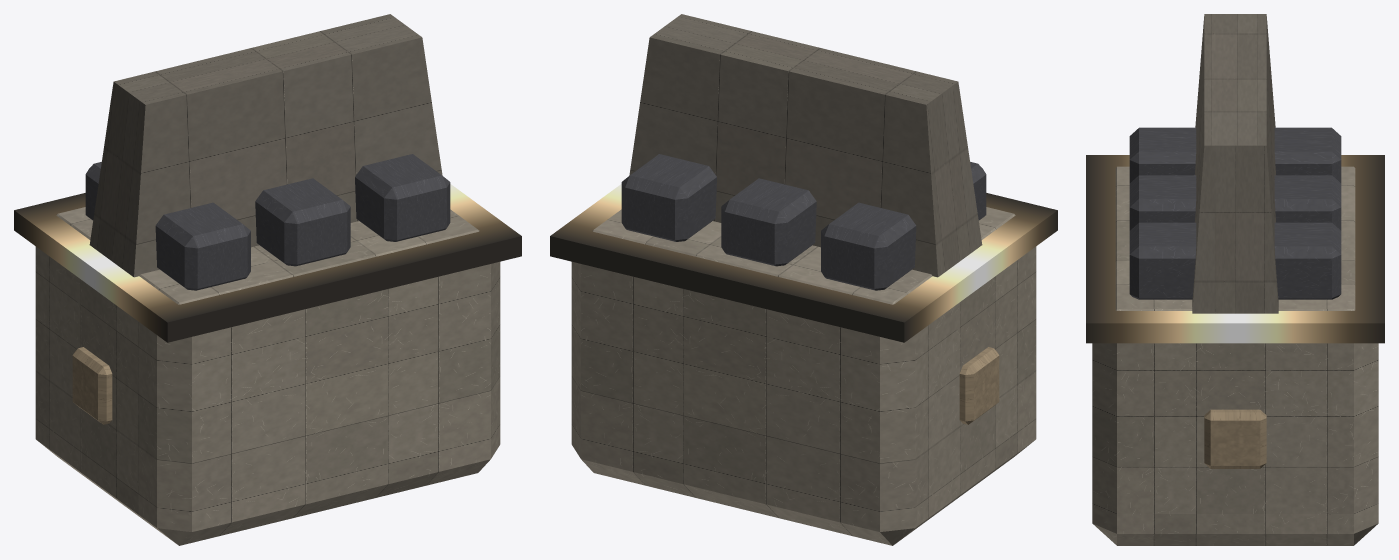
File: dep_ammopack.obj
3 views of the same model, side by side, from view 1: azimuth 30°, elevation 25°; view 2: azimuth 150°, elevation 25°; view 3: azimuth 270°, elevation 25° (orthographic). The views are drawn at different scales.
Visible parts, largest first — view 1: dep_ammopack; view 2: dep_ammopack; view 3: dep_ammopack.
Boxes of the visible parts, box(x1,y1,x2,y2) form: dep_ammopack: box(14, 14, 521, 545); dep_ammopack: box(550, 14, 1057, 545); dep_ammopack: box(1086, 14, 1384, 545).
Size of the model in its own units: 0.66 by 0.7 by 0.48.
1 material, 1 textured.
